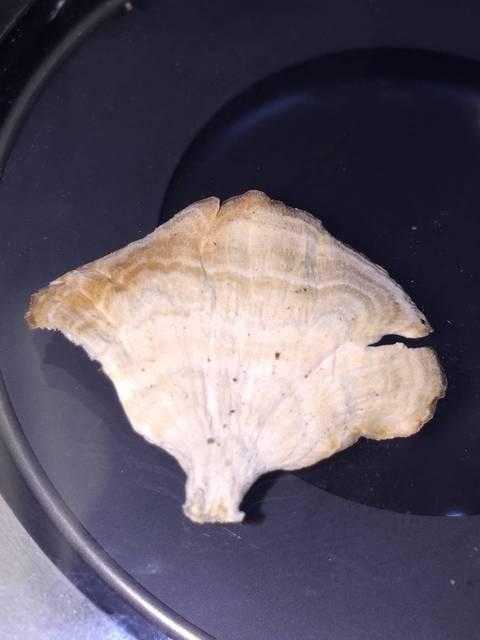poisonous_mushroom: (23, 187, 448, 525)
